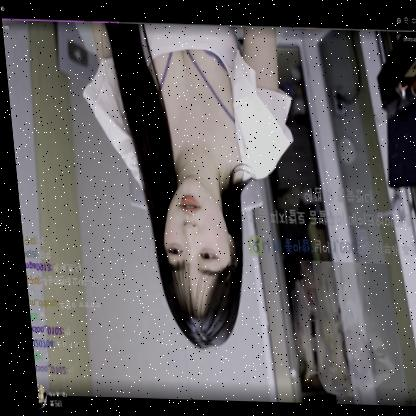donation: (240, 182, 416, 405)
streamer: (75, 22, 310, 353)
